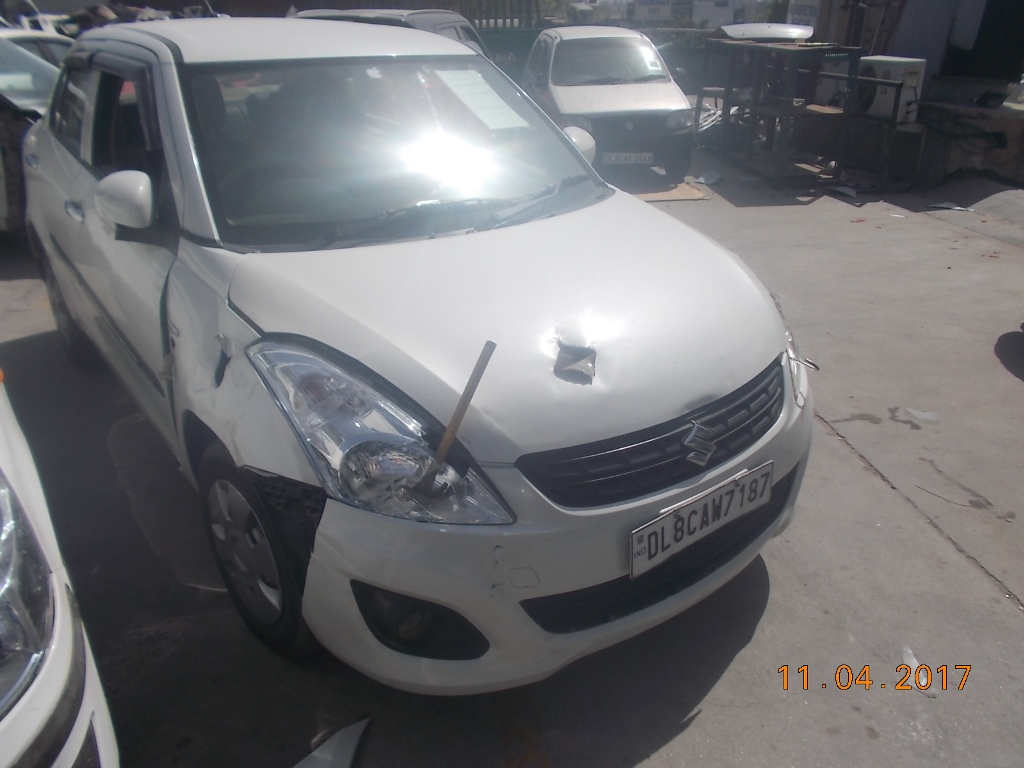Tear: (547, 324, 609, 398)
